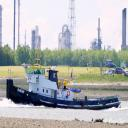tugboat: (7, 44, 123, 113)
